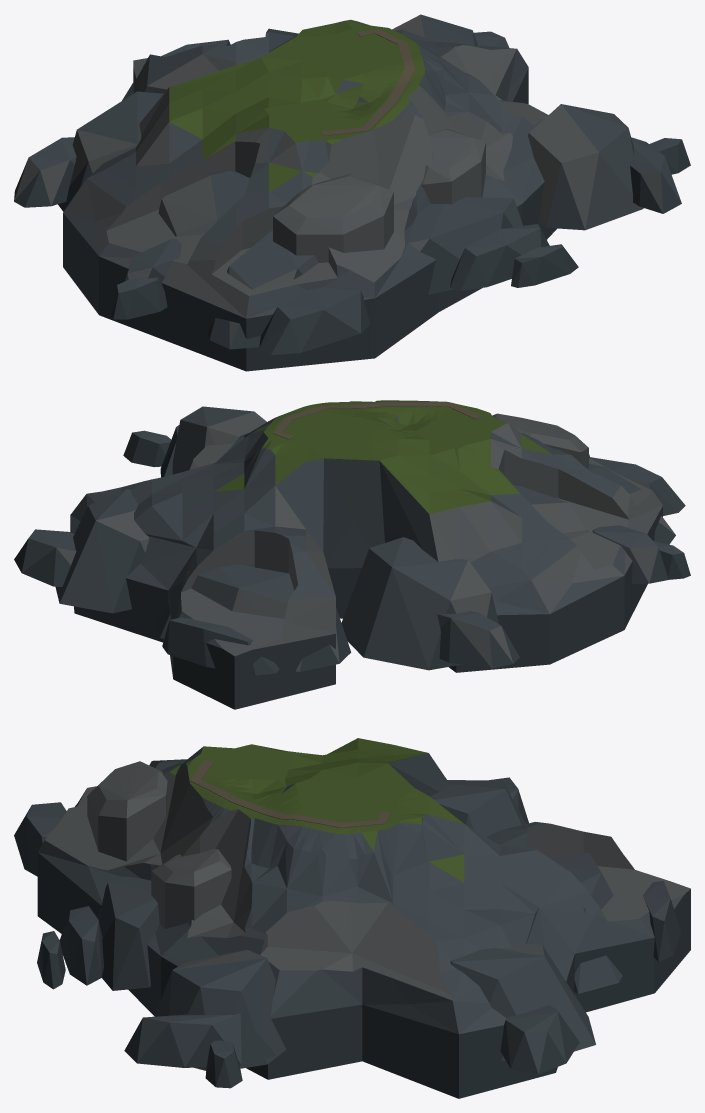
File: island_c.glb
3 renders of one model, top to bottom at view 1: azimuth 30°, elevation 25°; view 2: azimuth 150°, elevation 25°; view 3: azimuth 270°, elevation 25°, orthographic. The views are drawn at different scales.
Visible parts, largest first — view 1: island_c_Coast short olive grass, island_c_Coast blue grey bedrock, island_c_Coast weathered stone footpath; view 2: island_c_Coast short olive grass, island_c_Coast blue grey bedrock, island_c_Coast weathered stone footpath; view 3: island_c_Coast short olive grass, island_c_Coast blue grey bedrock, island_c_Coast weathered stone footpath.
Part boxes in pixels (x1=…): island_c_Coast short olive grass: x1=63, y1=19, x2=556, y2=371; island_c_Coast blue grey bedrock: x1=14, y1=14, x2=690, y2=355; island_c_Coast weathered stone footpath: x1=320, y1=29, x2=414, y2=135; island_c_Coast short olive grass: x1=70, y1=400, x2=662, y2=709; island_c_Coast blue grey bedrock: x1=14, y1=406, x2=690, y2=675; island_c_Coast weathered stone footpath: x1=272, y1=402, x2=481, y2=439; island_c_Coast short olive grass: x1=37, y1=738, x2=690, y2=1098; island_c_Coast blue grey bedrock: x1=14, y1=777, x2=681, y2=1088; island_c_Coast weathered stone footpath: x1=190, y1=760, x2=390, y2=827.
Bounding box in the file's own units: 64.61 × 17.59 × 60.
